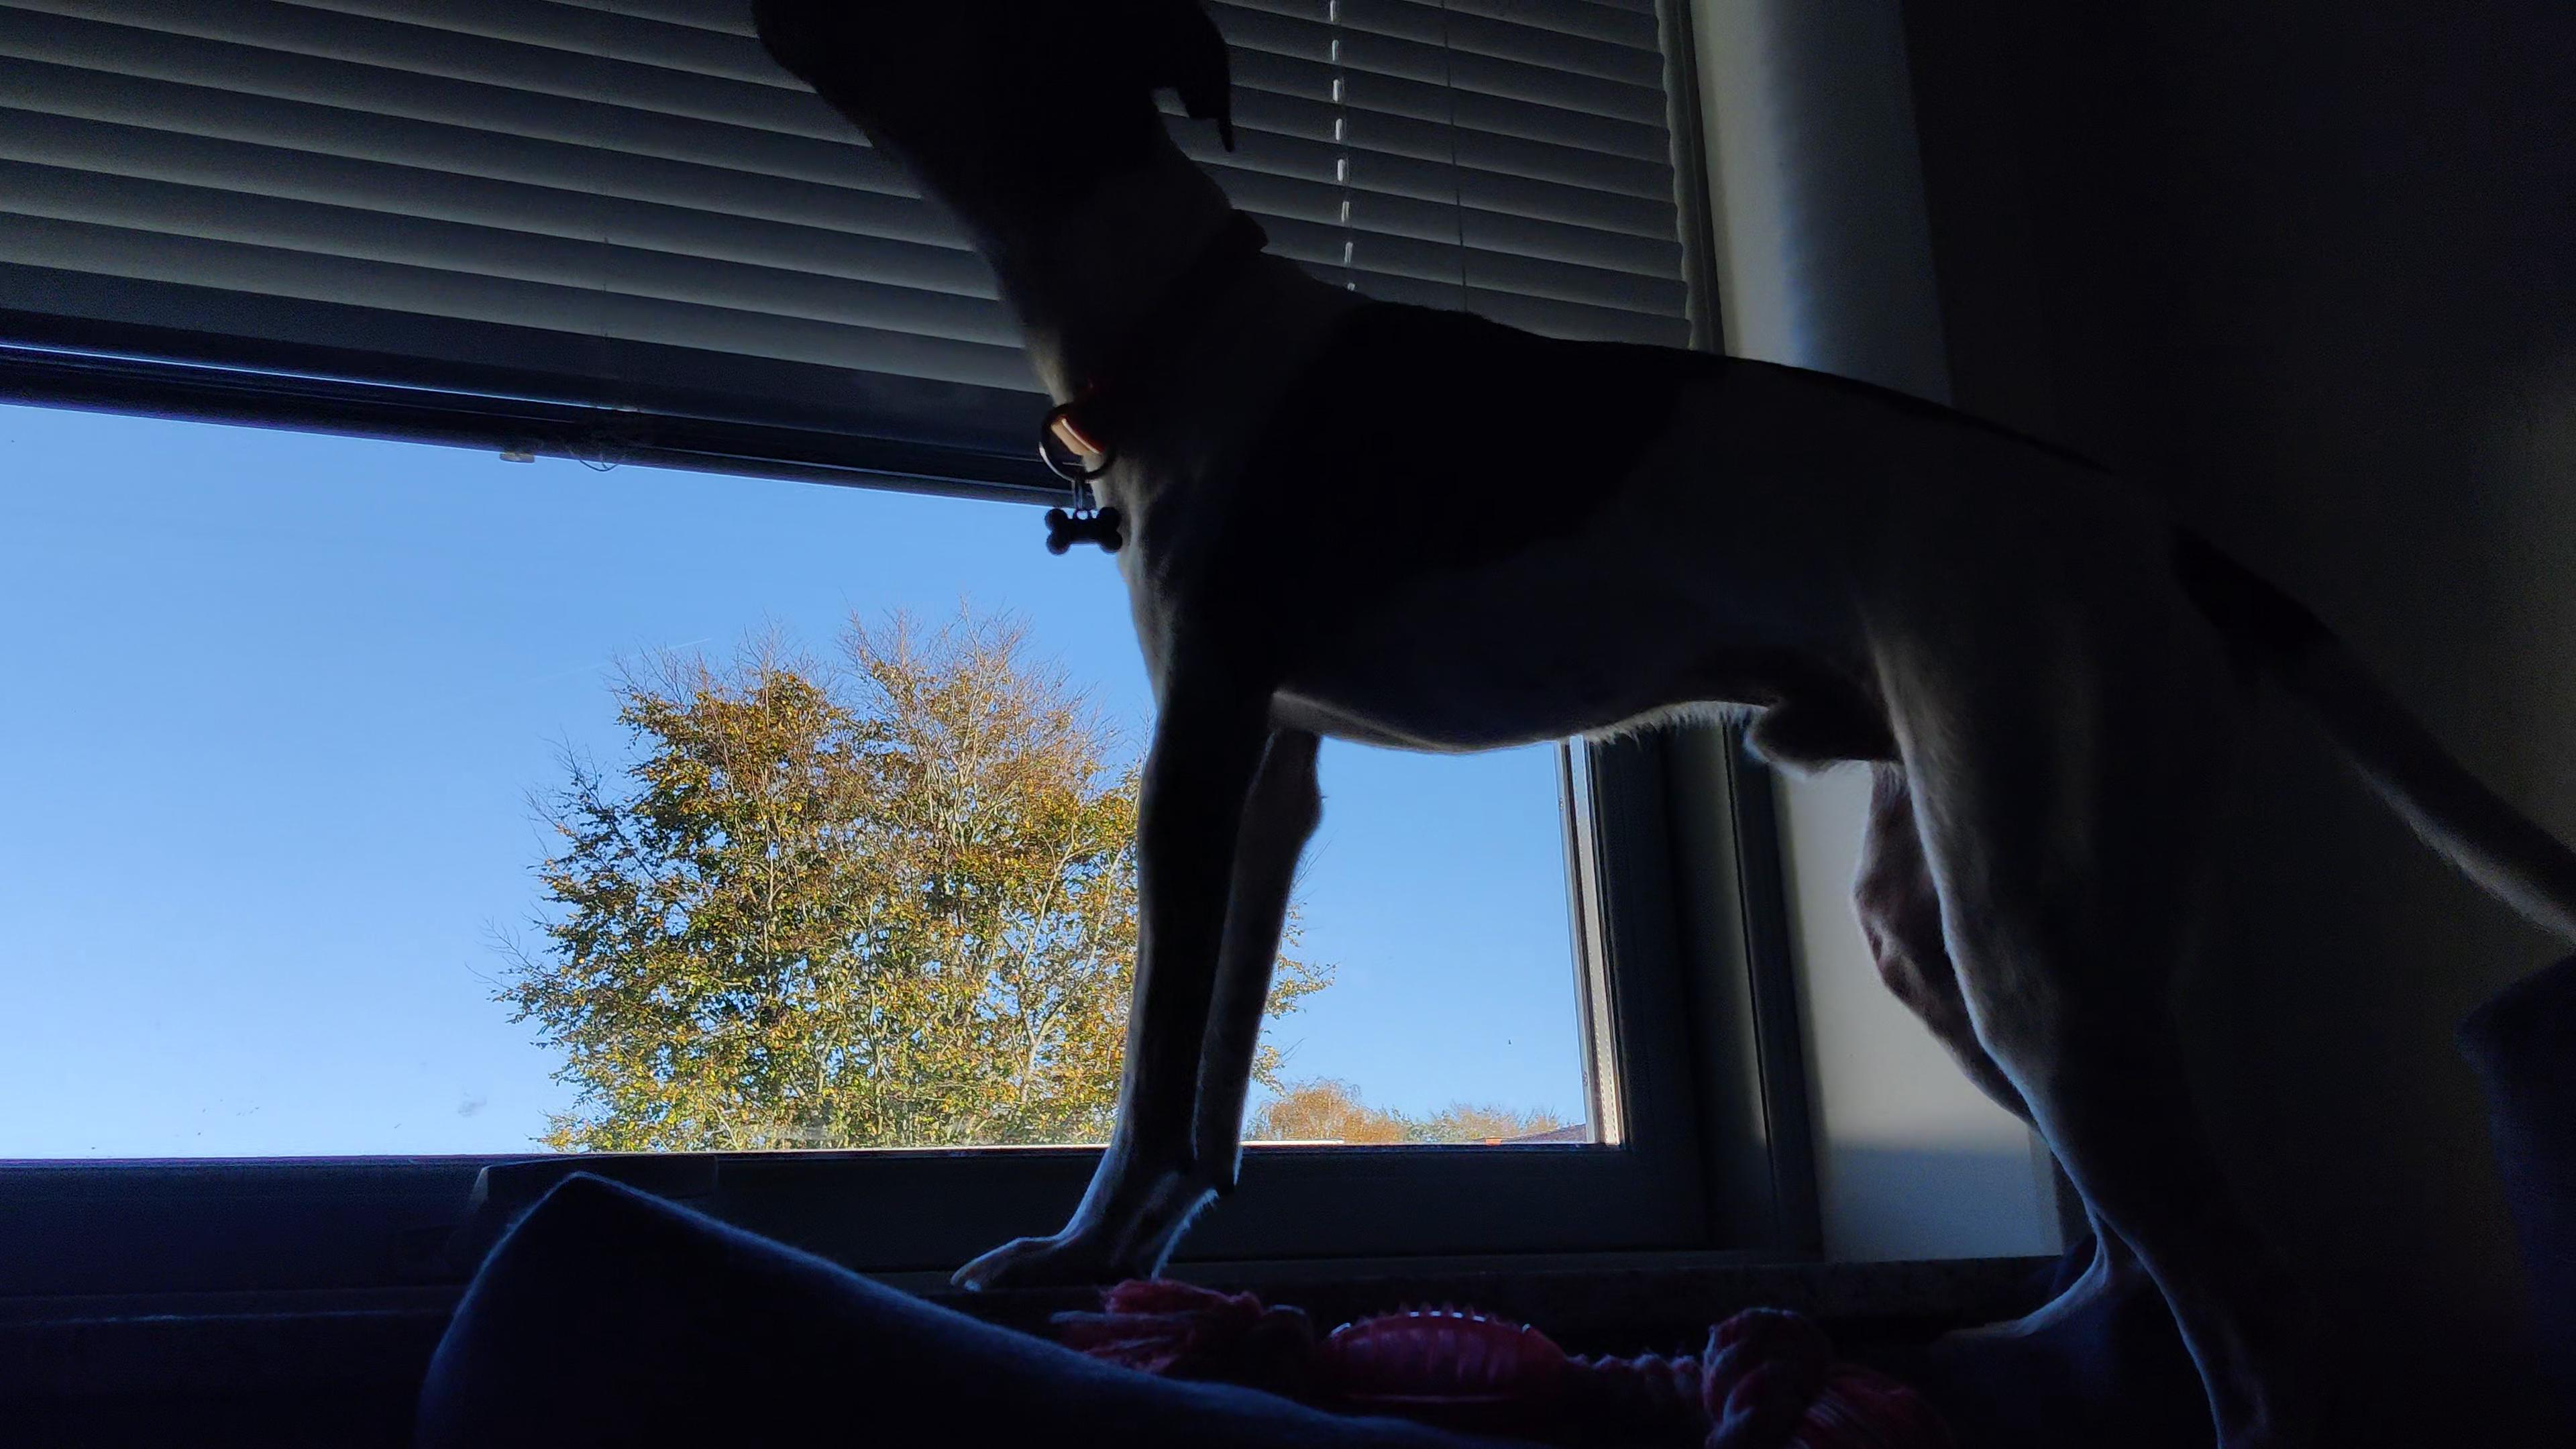Dog: (734, 0, 2576, 1449)
